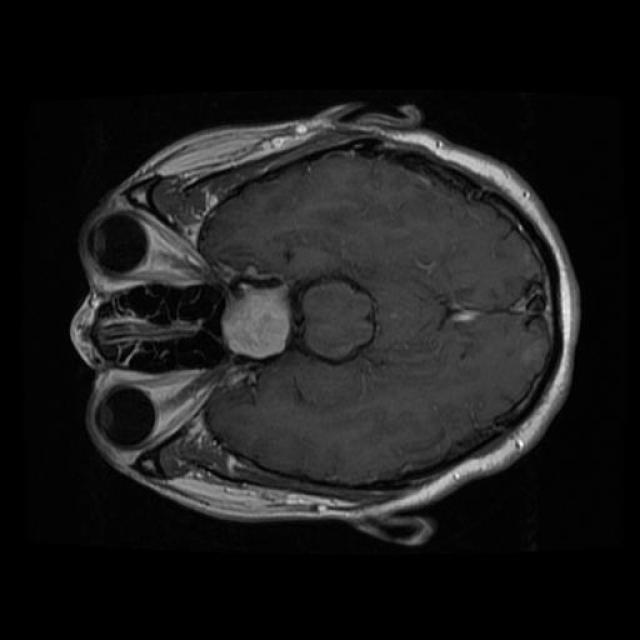Pituitary: (221, 266, 290, 360)
